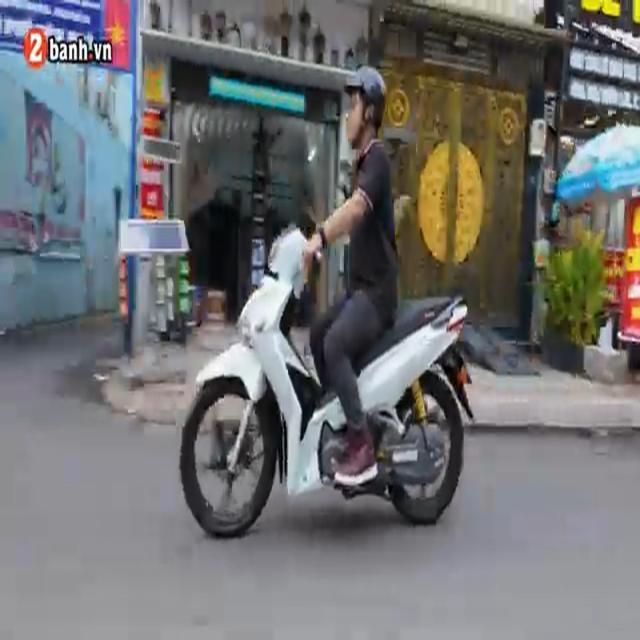motorcycle: (179, 212, 488, 537)
